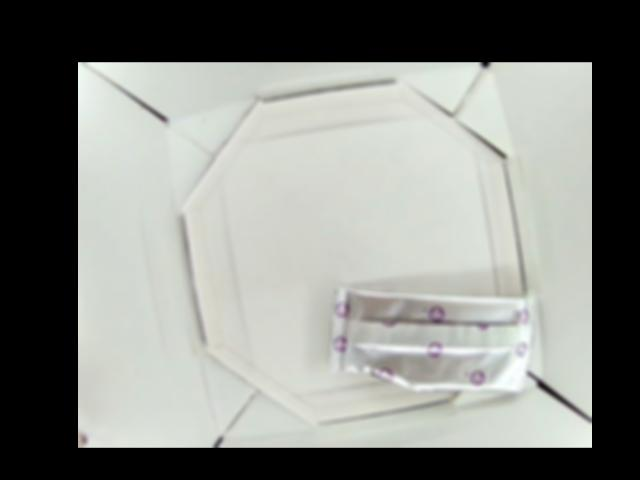Medicine: (326, 286, 534, 393)
